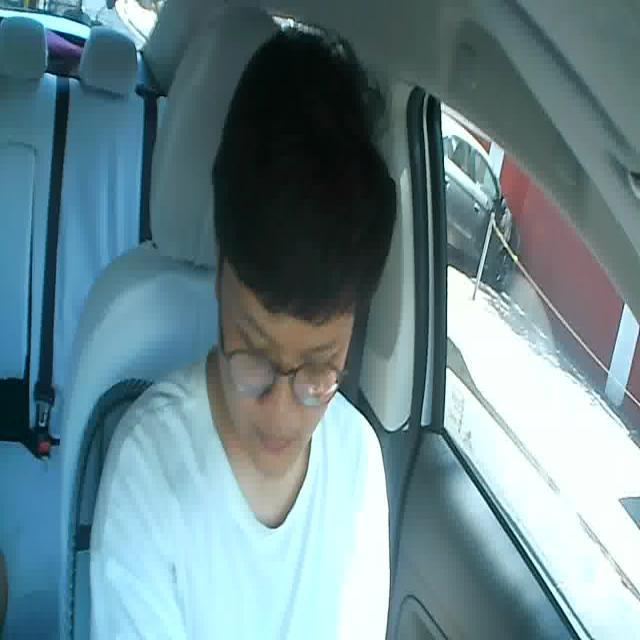Eye-Close: (303, 346, 335, 376), (238, 323, 269, 353)
Inattentive: (208, 27, 398, 480)
Normal: (254, 426, 297, 460)
